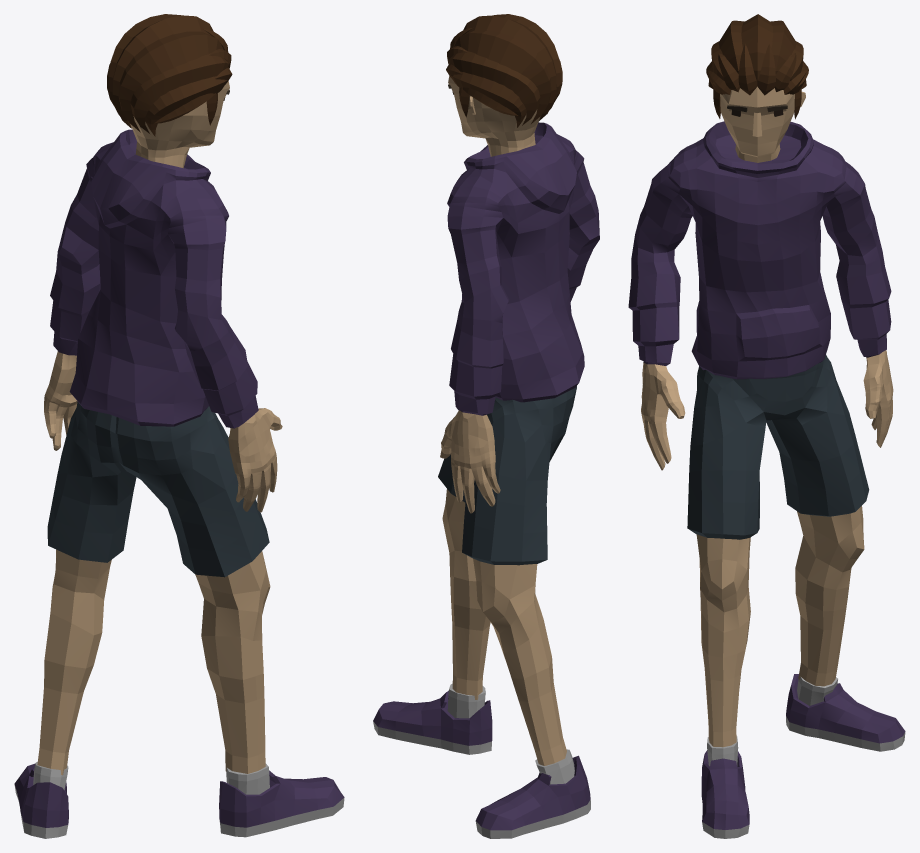
The model's file is persoon_e.glb.
3 views of the same model, side by side, from view 1: azimuth 30°, elevation 25°; view 2: azimuth 150°, elevation 25°; view 3: azimuth 270°, elevation 25° (orthographic). The views are drawn at different scales.
Bounding box in the file's own units: 0.6382 × 1.82 × 0.6082.
